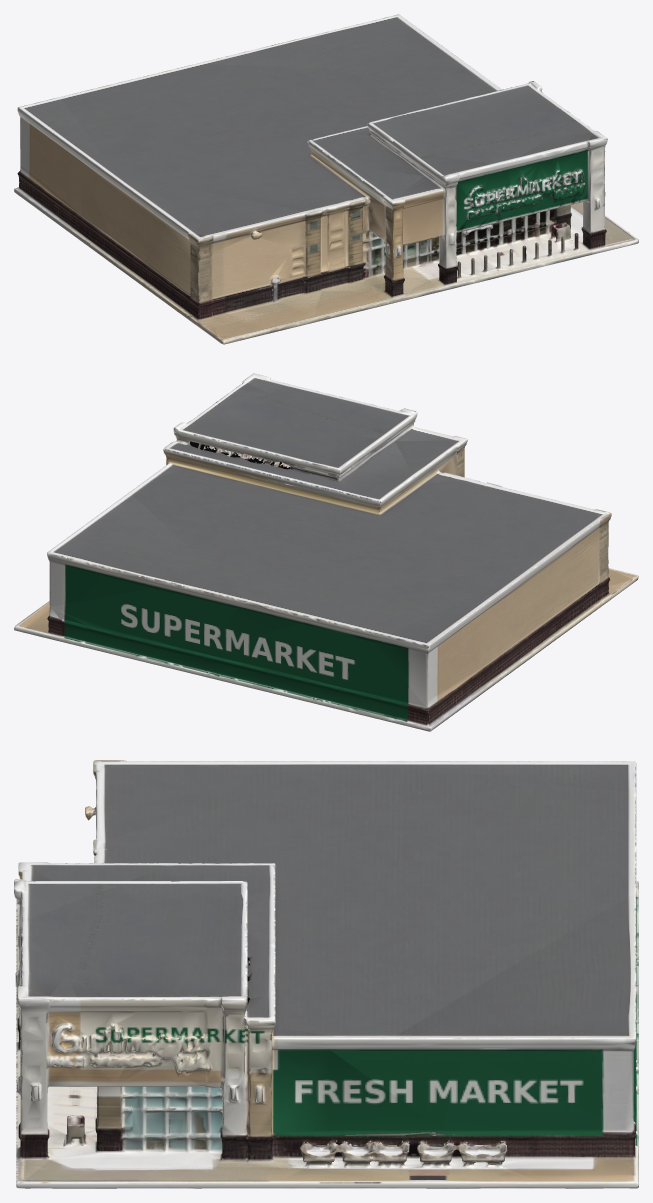
Rendered from shop-super.glb.
3 renders of one model, top to bottom at view 1: azimuth 30°, elevation 25°; view 2: azimuth 150°, elevation 25°; view 3: azimuth 270°, elevation 25°, orthographic. The views are drawn at different scales.
Parts seen in each view (by area): view 1: Cafe; view 2: Cafe; view 3: Cafe.
Part boxes in pixels (x1,y1,x2,y2): Cafe: (14,14,638,344); Cafe: (14,373,638,731); Cafe: (14,760,638,1188).
Bounding box in the file's own units: 38.42 × 10 × 33.5.
1 material, 1 textured.
